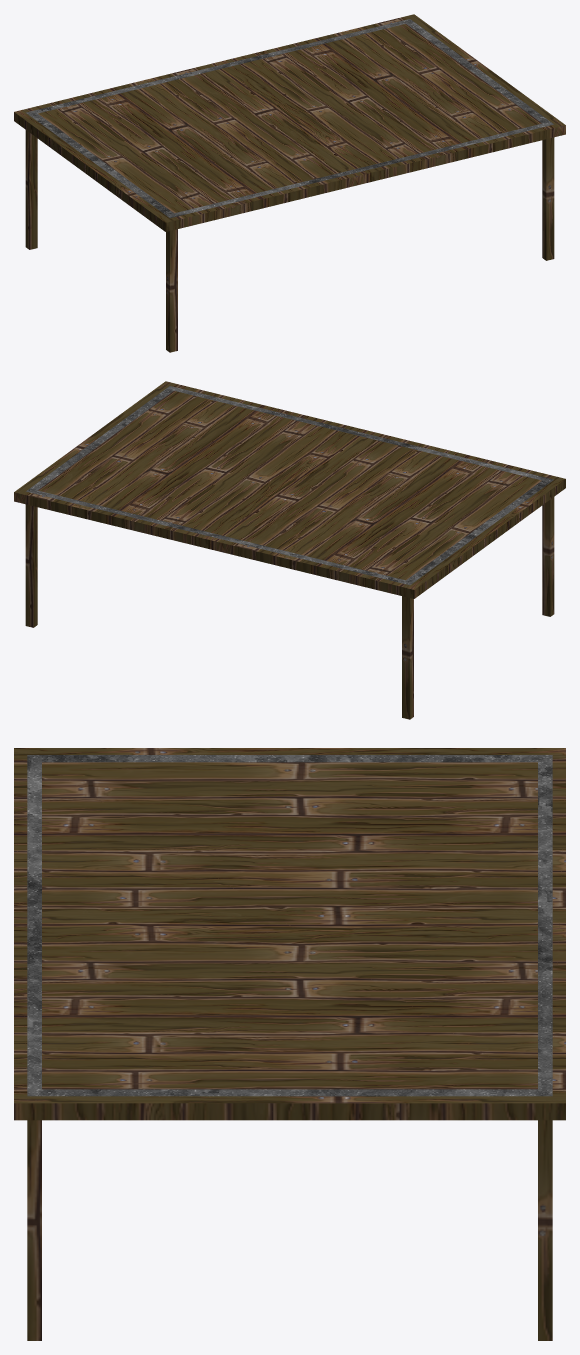
Rendered from table.fbx.
3 renders of one model, top to bottom at view 1: azimuth 30°, elevation 25°; view 2: azimuth 150°, elevation 25°; view 3: azimuth 270°, elevation 25°, orthographic. The views are drawn at different scales.
Parts seen in each view (by area): view 1: Table; view 2: Table; view 3: Table.
Part boxes in pixels (x1,y1,x2,y2): Table: [14, 14, 565, 352]; Table: [14, 381, 565, 719]; Table: [14, 748, 565, 1340].
Bounding box in the file's own units: 269 × 86.48 × 177.
